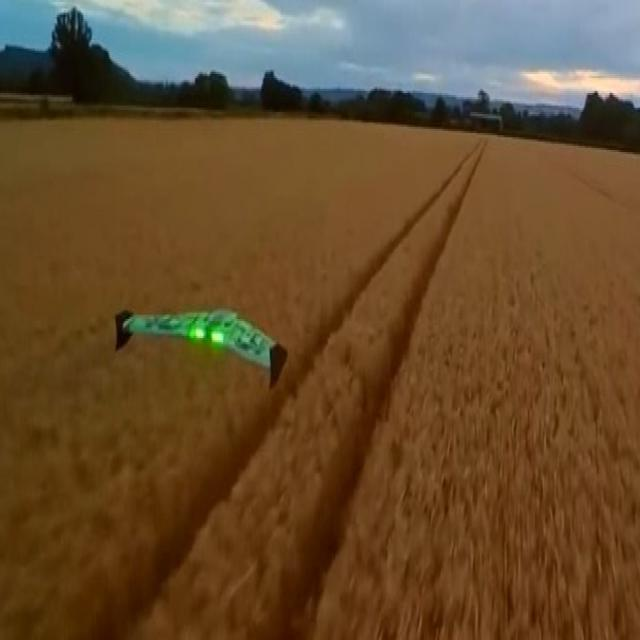UAV: (59, 278, 316, 379)
